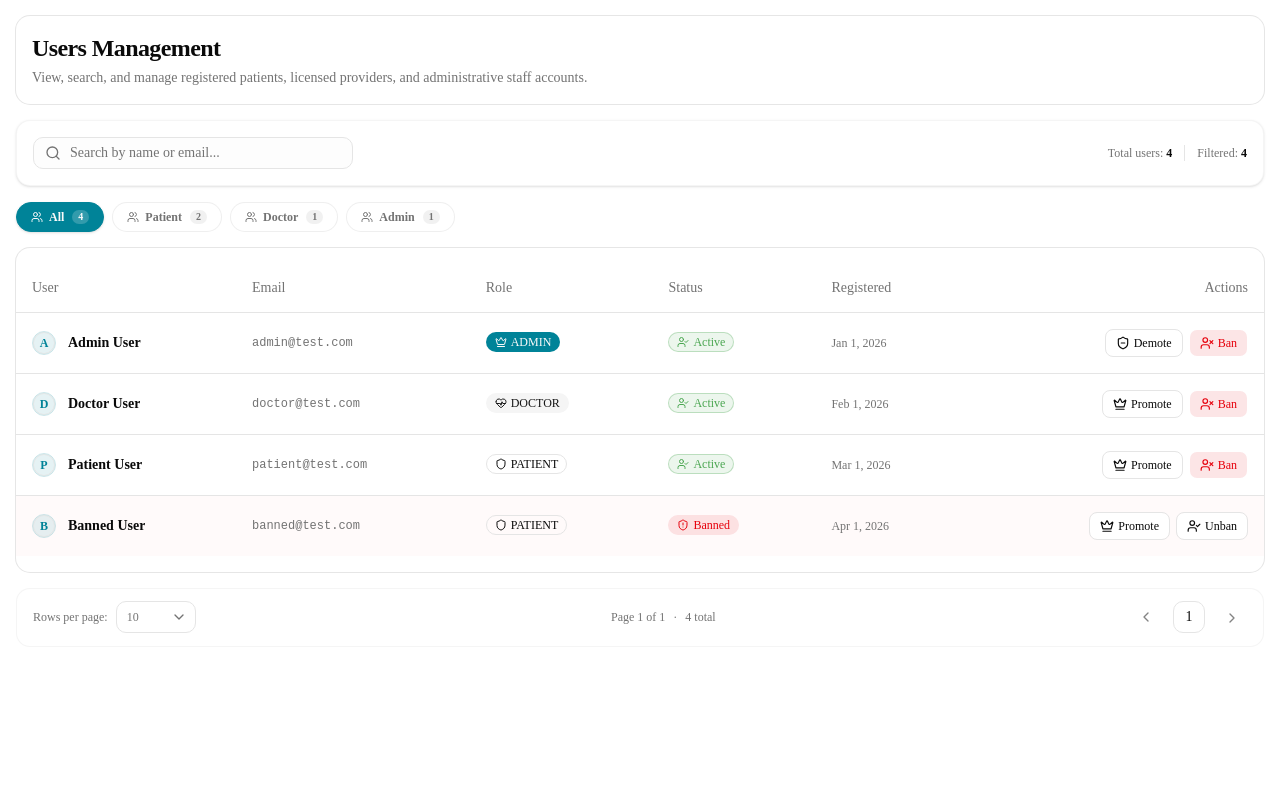
AdminUsersPage › filters users by role when clicking a pill
Expected: the text "Users Management" is shown, [32,35,220,61]
Expected: the text "Rows per page:" is shown, [33,609,108,625]
Click the button "Doctor 1" at (284, 217), box [230,202,338,232]
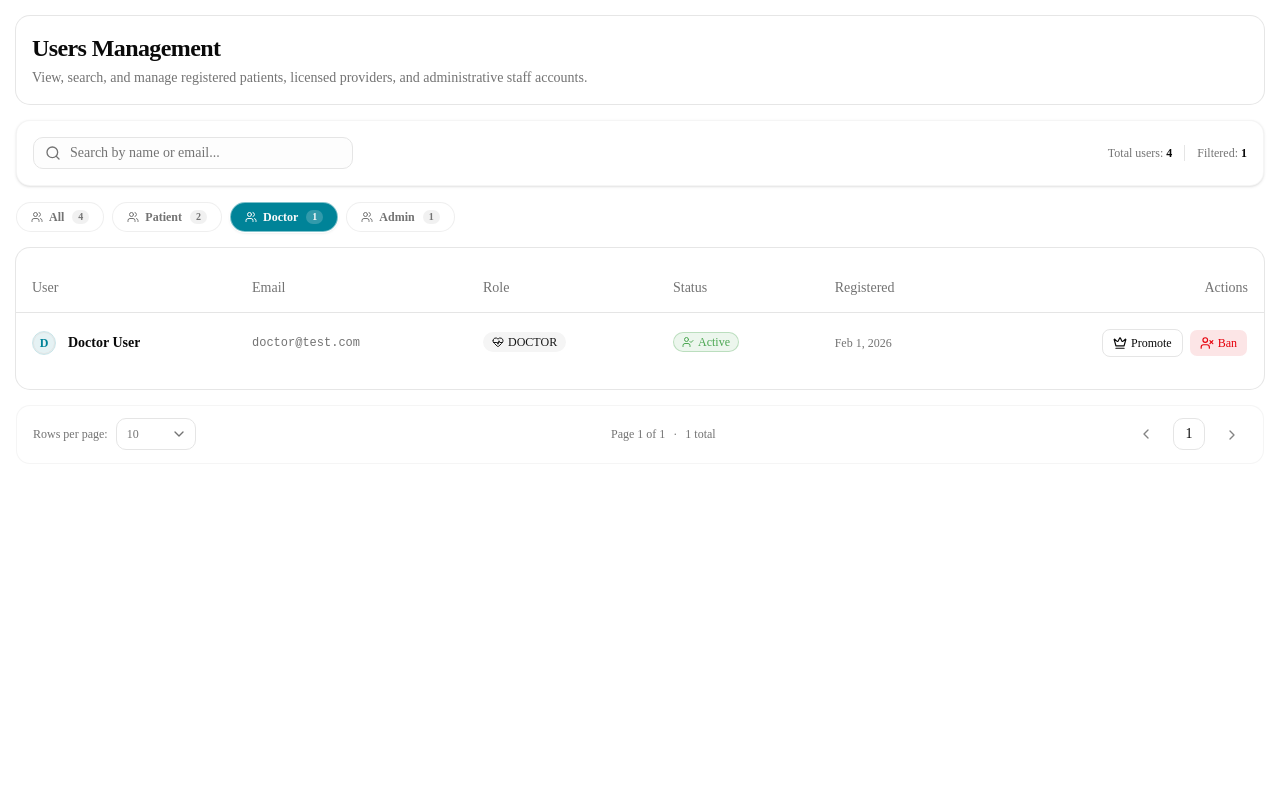
Expected: the text "admin@test.com" is gone
